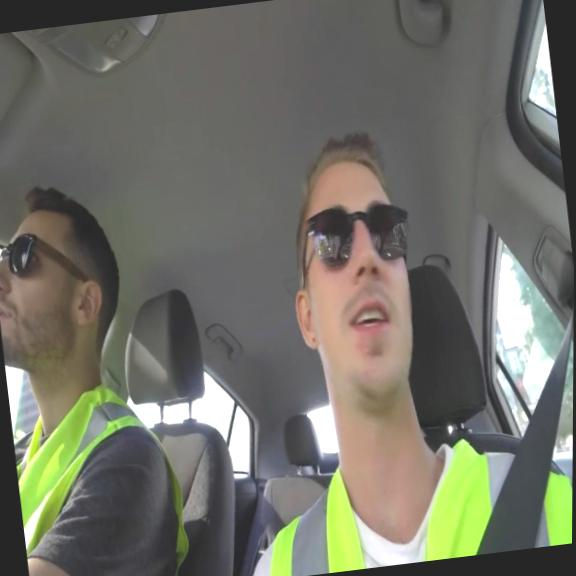safety_vest: (251, 426, 573, 576), (7, 372, 194, 576)
